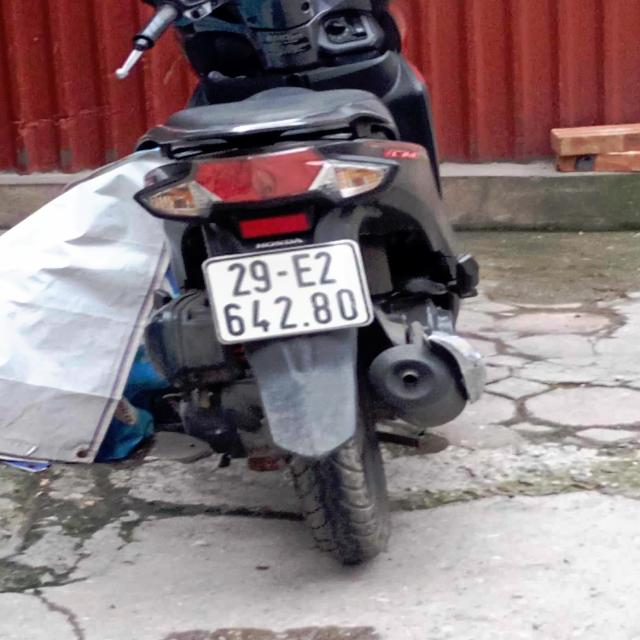license_plate: (196, 236, 381, 350)
